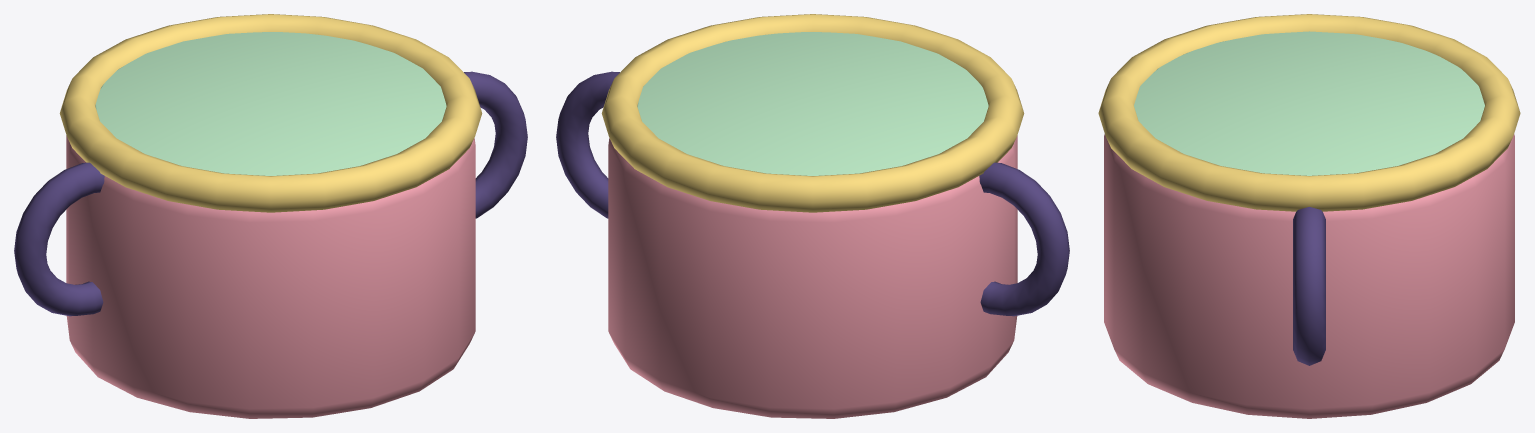
File: kitchen_soup_pot.glb
3 renders of one model, left to right at view 1: azimuth 30°, elevation 25°; view 2: azimuth 150°, elevation 25°; view 3: azimuth 270°, elevation 25°, orthographic.
Visible parts, largest first — view 1: PotBody, Soup, PotRim, Handle_-1.0, Handle_1.0; view 2: PotBody, Soup, PotRim, Handle_-1.0, Handle_1.0; view 3: PotBody, Soup, PotRim, Handle_1.0.
Boxes of the visible parts, x1,y1,x2,y2 form: PotBody: (66,135,475,418); Soup: (95,32,446,175); PotRim: (59,14,482,212); Handle_-1.0: (14,162,104,316); Handle_1.0: (464,71,527,218); PotBody: (608,135,1017,418); Soup: (637,32,988,175); PotRim: (601,14,1024,212); Handle_-1.0: (979,162,1069,316); Handle_1.0: (556,71,619,218); PotBody: (1104,134,1514,418); Soup: (1134,31,1484,175); PotRim: (1098,14,1520,211); Handle_1.0: (1293,207,1325,365).
Size of the model in its own units: 2.12 by 0.97 by 1.52.
